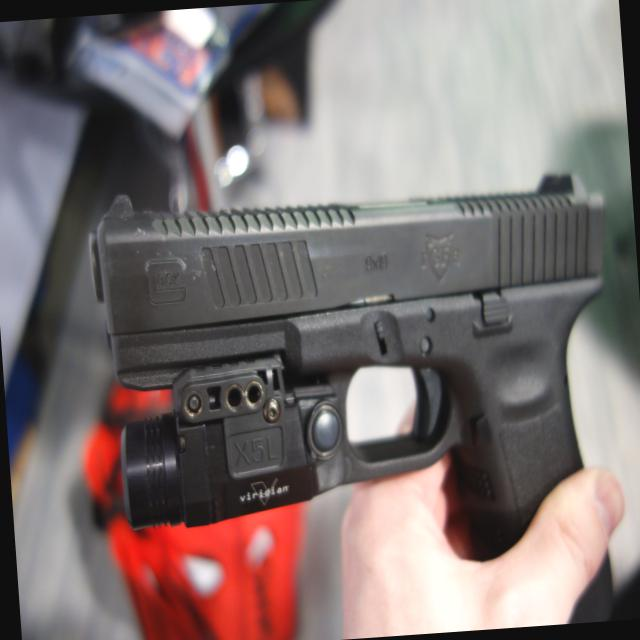handgun: (83, 159, 639, 639)
